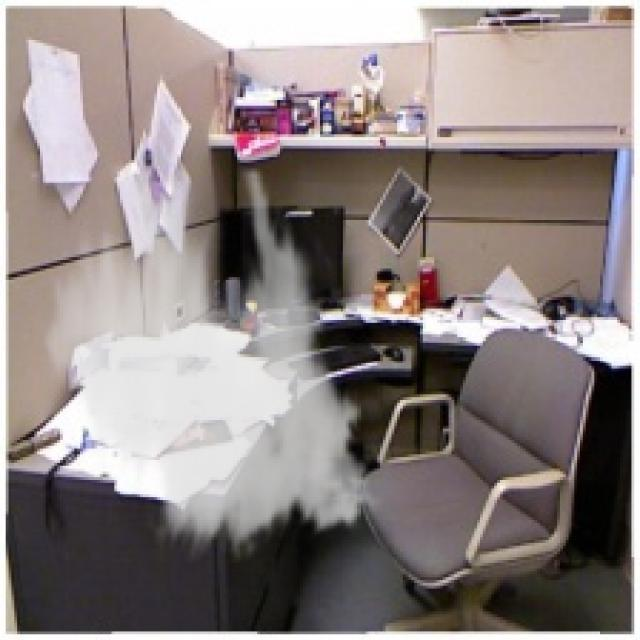Smoke: (34, 168, 386, 563)
